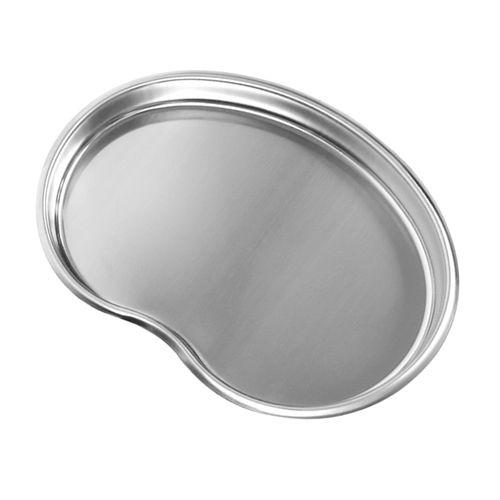Kidney Tray: (33, 66, 460, 418)
